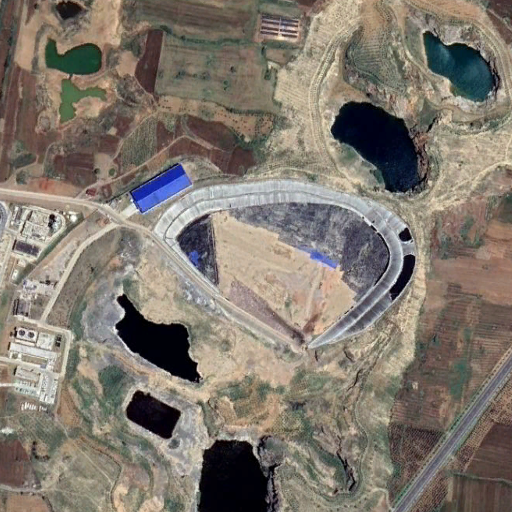lf: (156, 183, 416, 353)
